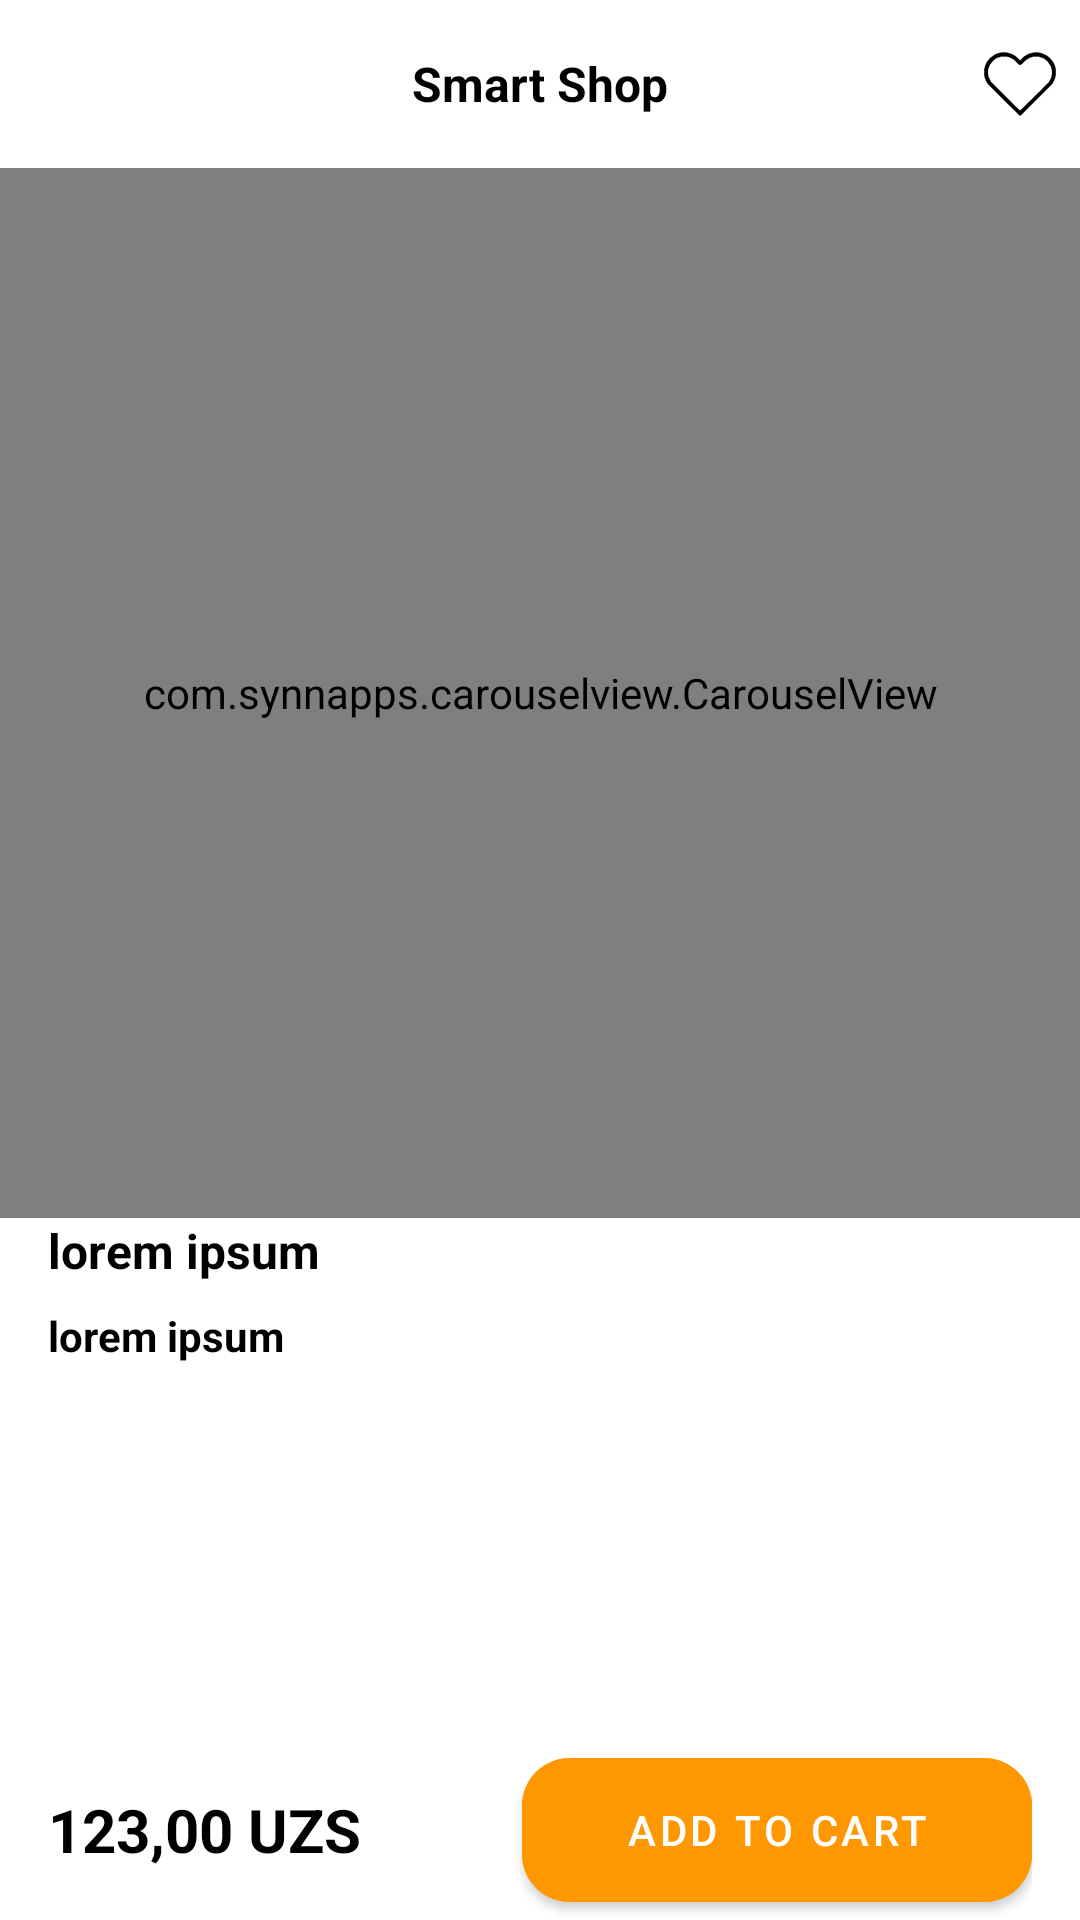

Icon click points for this 1080px x 1920px phone screenshot, format (x=x, y=y):
favorite: (x=1020, y=84)
